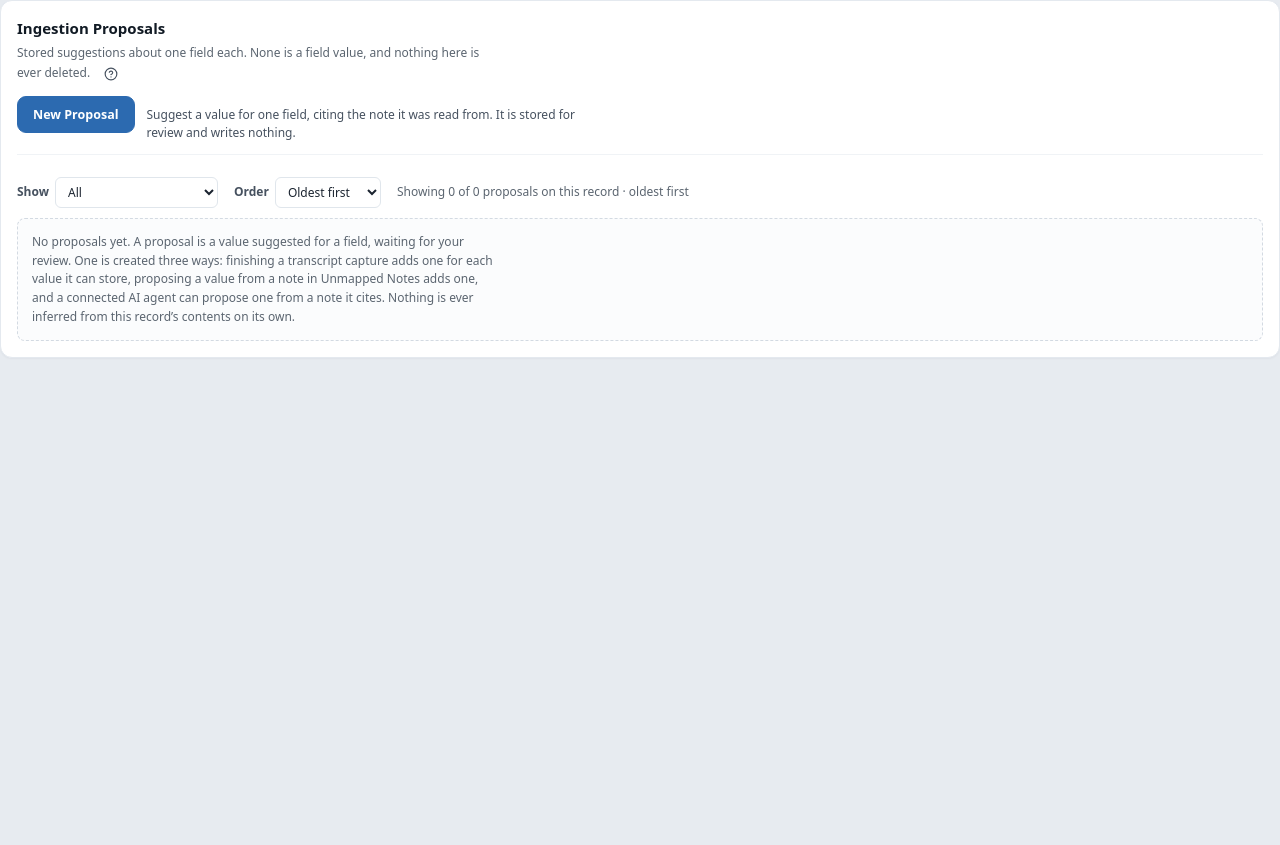
Test case: New Proposal · scope is the server’s answer, never inferred › a run-scoped target with no runs on the record says so instead of offering a picker
Click the button "New Proposal" at (76, 115), box [17, 96, 134, 133]
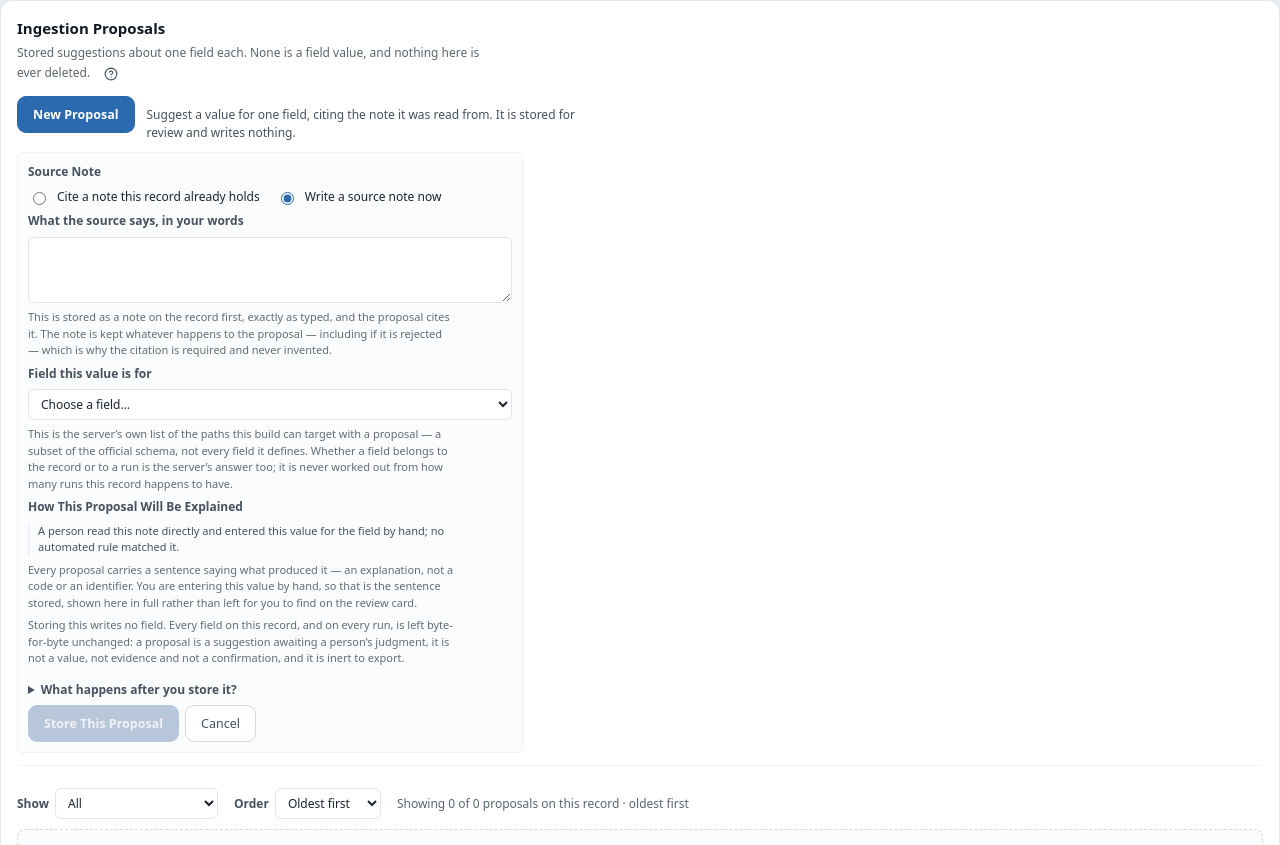
Now the text "Source Note" is shown, box [28, 163, 101, 182]
Select "Name — sample.material.name" in the dropdown labelled "Field this value is for" at (270, 405), box [28, 389, 512, 420]
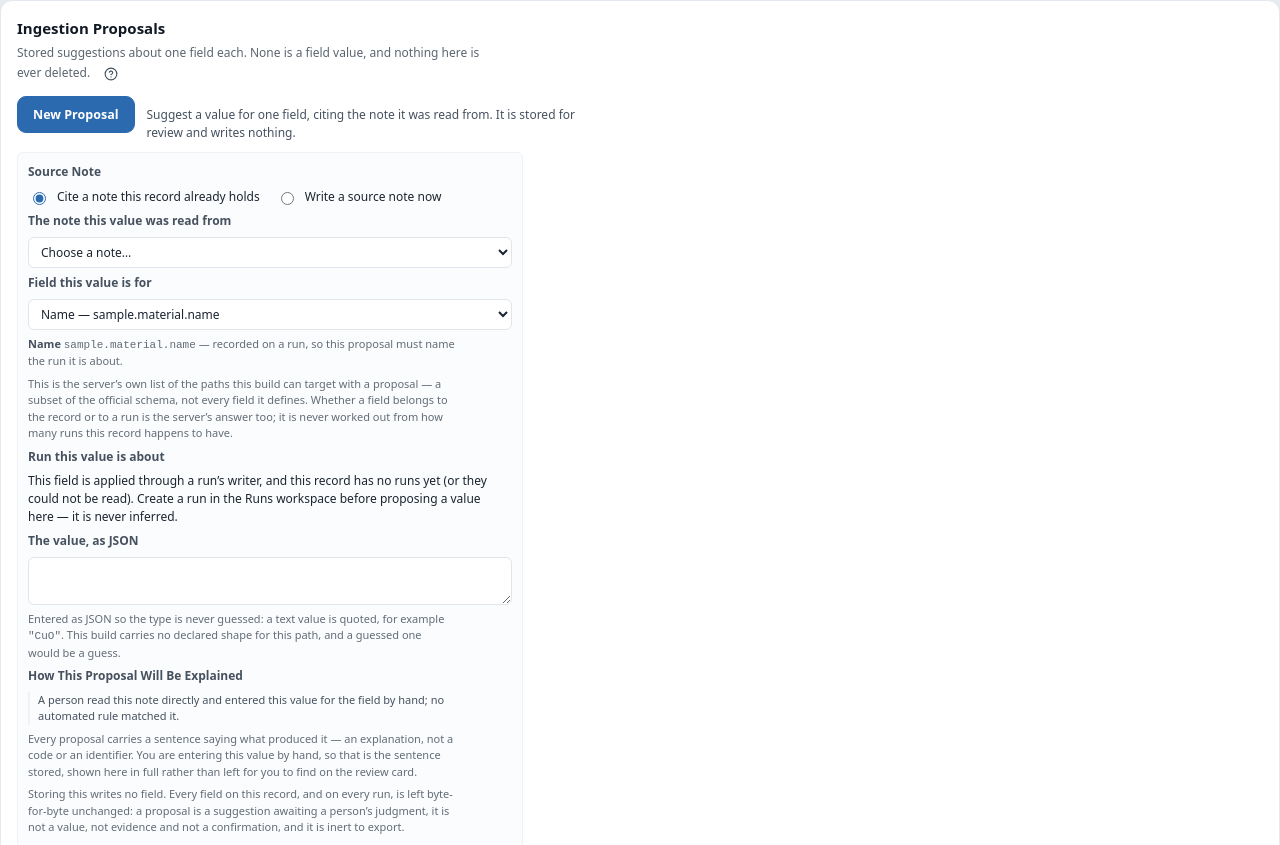
Now the text "this record has no runs yet (or they could not be read)" is shown, box [28, 472, 487, 525]
